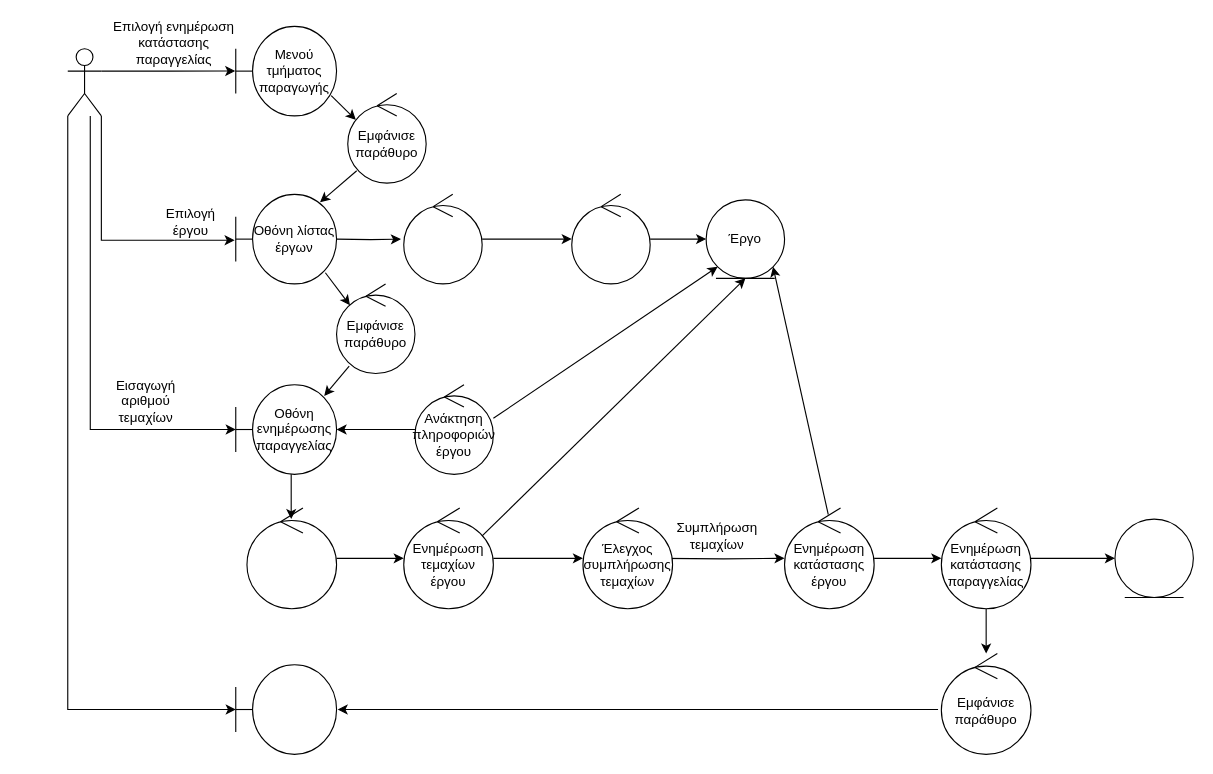
This 1213x774 diagram has some shape labels left out. The shapes that lost their labels are listed below. From the top down, each one's centre as x and y in pixels, then its label:
(x=84, y=82): ΤΜΗΜΑ ΠΑΡΑΓΩΓΗΣ
(x=442, y=238): Εμφάνιση λίστας έργων
(x=610, y=238): Ανάκτηση λίστας έργων
(x=291, y=558): Υπολογισμός συνολικών τεμαχίων
(x=1153, y=558): Παραγγελία
(x=286, y=709): Μύνημα ολοκλήρωσης παραγγελίας
